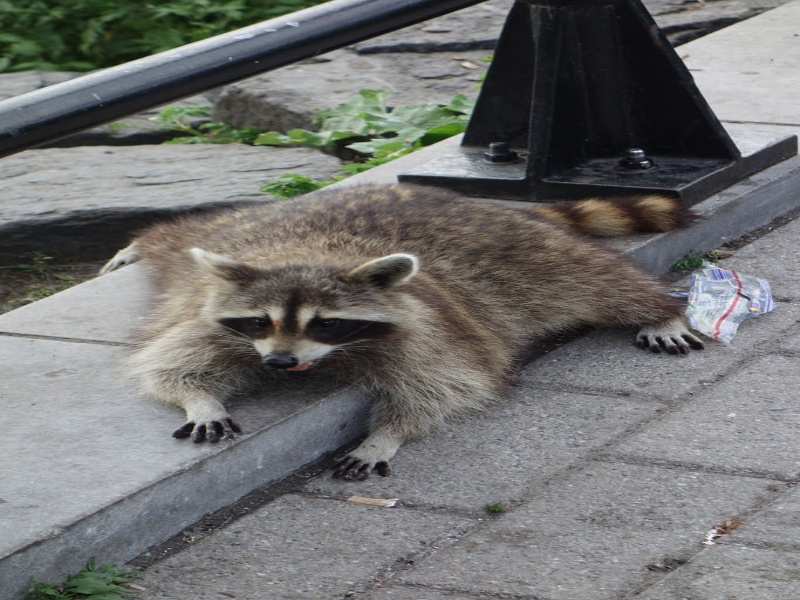raccoon: (102, 181, 712, 480)
